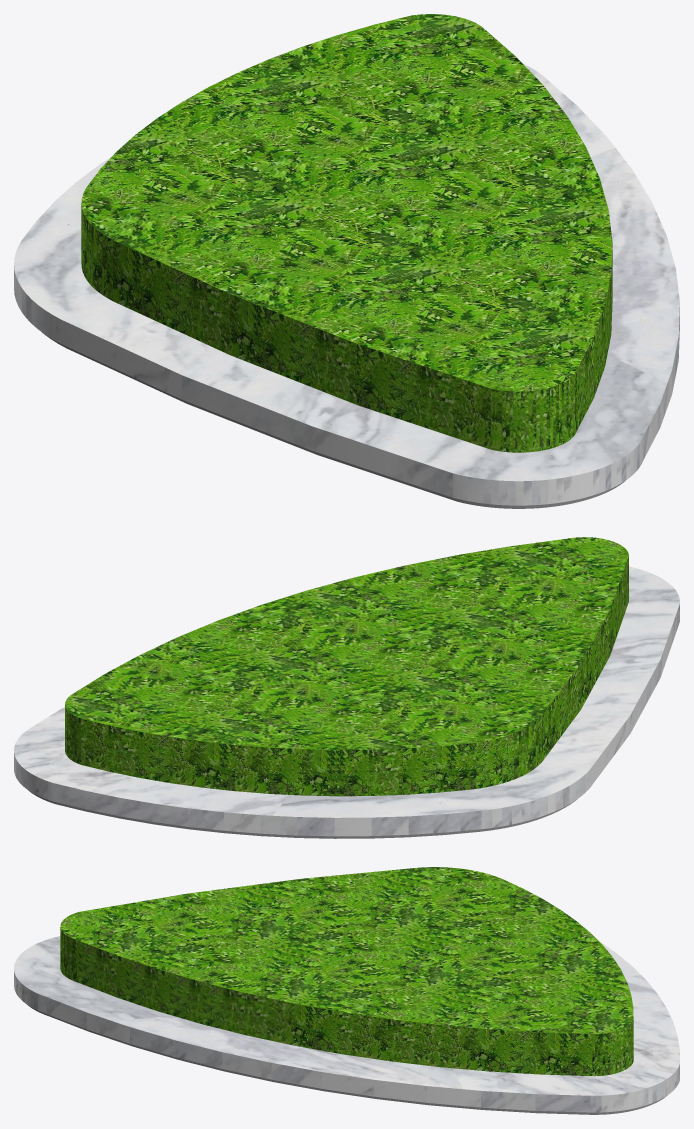
File: parterre.gltf
The picture shows the model from 3 angles, top to bottom: view 1: azimuth 30°, elevation 25°; view 2: azimuth 150°, elevation 25°; view 3: azimuth 270°, elevation 25°; orthographic projection. The views are drawn at different scales.
Parts seen in each view (by area): view 1: 花坛_草坪03; view 2: 花坛_草坪03; view 3: 花坛_草坪03.
Boxes of the visible parts, x1,y1,x2,y2 form: 花坛_草坪03: [14, 14, 679, 508]; 花坛_草坪03: [14, 537, 679, 838]; 花坛_草坪03: [14, 867, 679, 1114].
Bounding box in the file's own units: 2.1 × 0.3 × 2.87.
Materials: 3 (2 with a texture image).
